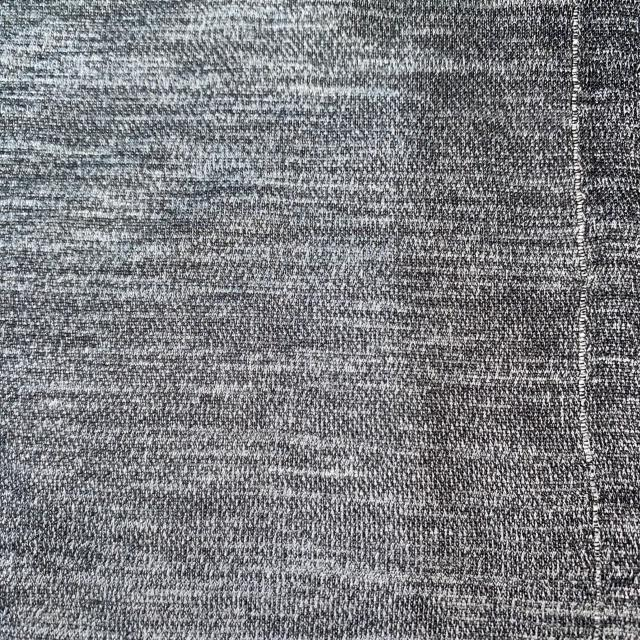Line: (569, 1, 602, 640)
